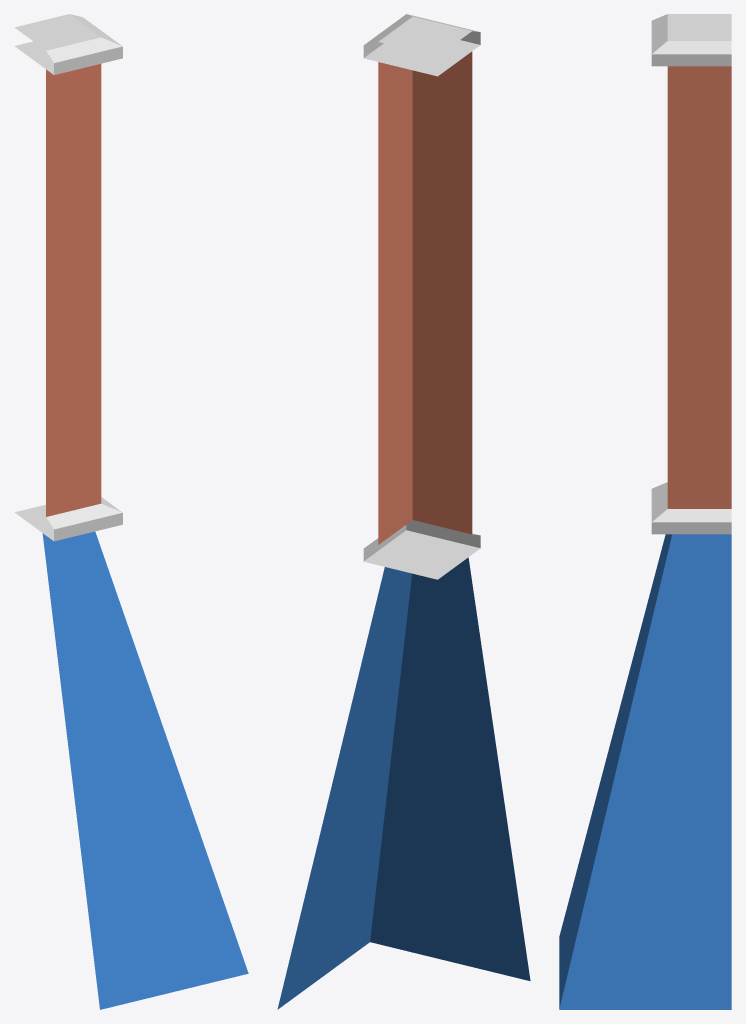
Rendered from Floor_01_CornerMegaWall_01a.fbx.
3 views of the same model, side by side, from view 1: azimuth 30°, elevation 25°; view 2: azimuth 150°, elevation 25°; view 3: azimuth 270°, elevation 25° (orthographic). The views are drawn at different scales.
Parts seen in each view (by area): view 1: Corner Megawall; view 2: Corner Megawall; view 3: Corner Megawall.
Boxes of the visible parts, box(x1,y1,x2,y2) form: Corner Megawall: box(14, 14, 248, 1009); Corner Megawall: box(277, 14, 530, 1009); Corner Megawall: box(559, 14, 731, 1009).
Size of the model in its own units: 67.84 by 401 by 67.87.
